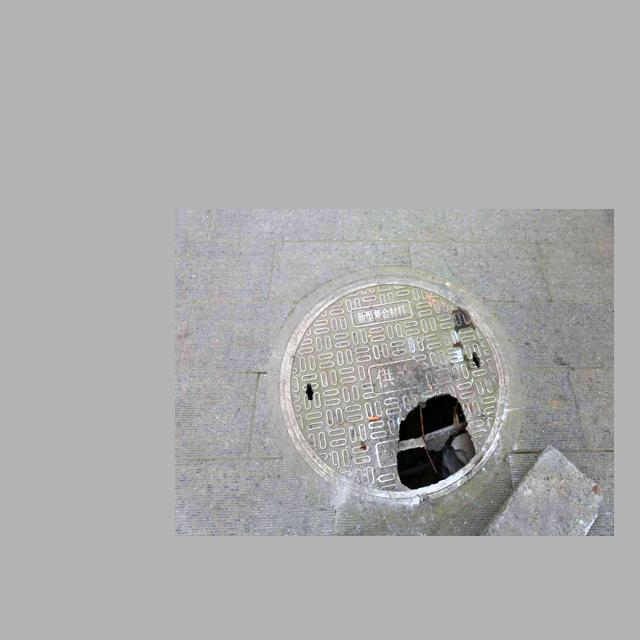broke: (279, 273, 510, 499)
